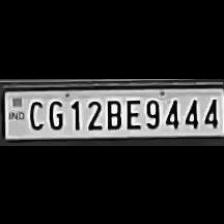1: (66, 96, 82, 130)
2: (84, 96, 103, 130)
4: (200, 94, 220, 125), (161, 95, 179, 127), (181, 95, 199, 127)
9: (142, 95, 160, 127)
B: (104, 96, 122, 128)
C: (25, 96, 43, 128)
E: (122, 95, 142, 129)
G: (44, 97, 64, 129)
